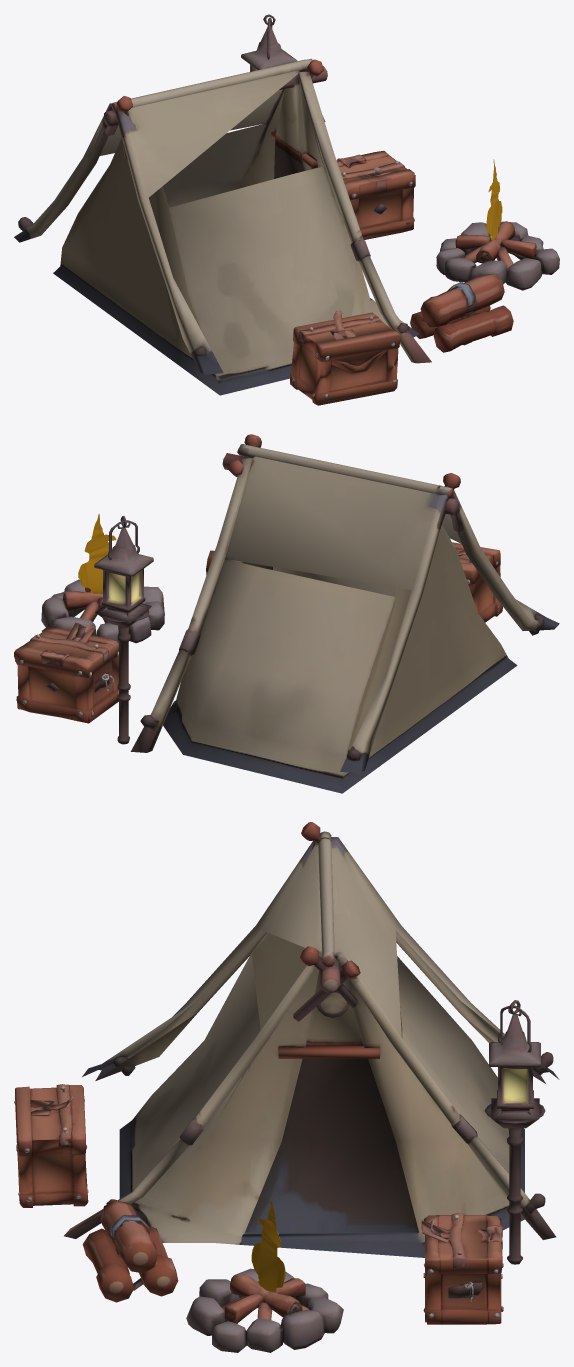
Rendered from explorer-camp.glb.
The picture shows the model from 3 angles, top to bottom: view 1: azimuth 30°, elevation 25°; view 2: azimuth 150°, elevation 25°; view 3: azimuth 270°, elevation 25°; orthographic projection. The views are drawn at different scales.
Parts seen in each view (by area): view 1: tripo_node_7522c7cd-ece2-4c62-8ebd-3042c6a5d01f; view 2: tripo_node_7522c7cd-ece2-4c62-8ebd-3042c6a5d01f; view 3: tripo_node_7522c7cd-ece2-4c62-8ebd-3042c6a5d01f.
Part boxes in pixels (left/top/right/bottom): tripo_node_7522c7cd-ece2-4c62-8ebd-3042c6a5d01f: left=14, top=14, right=559, bottom=405; tripo_node_7522c7cd-ece2-4c62-8ebd-3042c6a5d01f: left=14, top=434, right=559, bottom=793; tripo_node_7522c7cd-ece2-4c62-8ebd-3042c6a5d01f: left=14, top=822, right=559, bottom=1352.
Size of the model in its own units: 0.998 by 0.5957 by 0.9472.
Materials: 1 (1 with a texture image).
